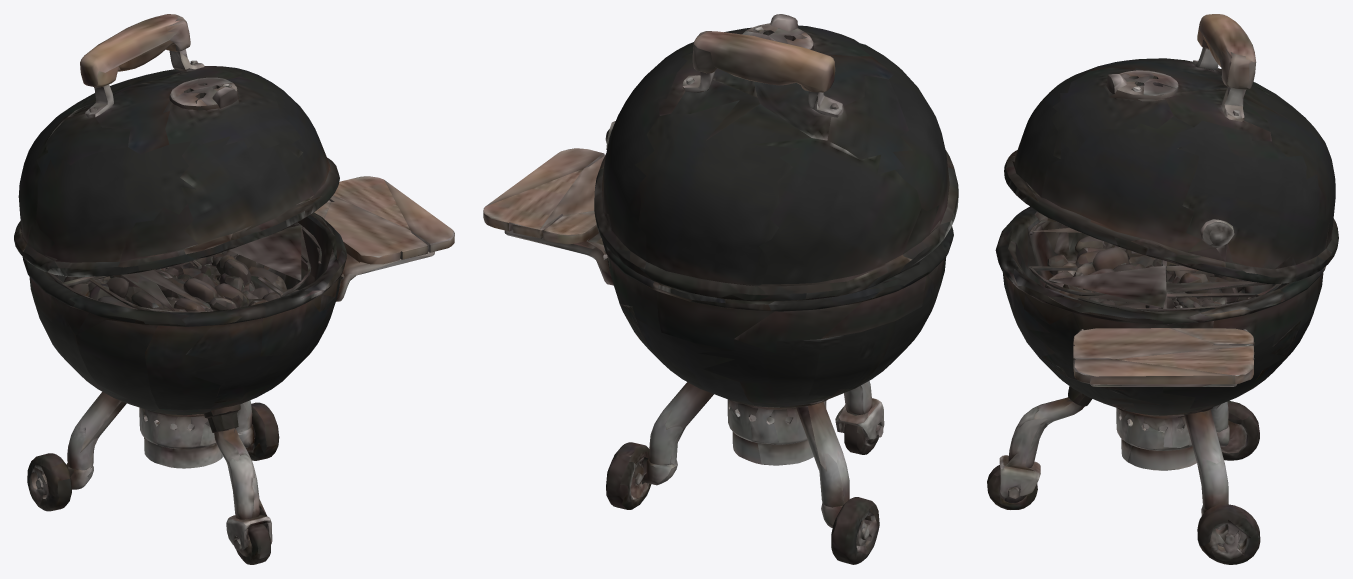
Rendered from grill.glb.
3 renders of one model, left to right at view 1: azimuth 30°, elevation 25°; view 2: azimuth 150°, elevation 25°; view 3: azimuth 270°, elevation 25°, orthographic. The views are drawn at different scales.
Bounding box in the file's own units: 1.65 × 1.9 × 1.28.
Materials: 1 (1 with a texture image).
